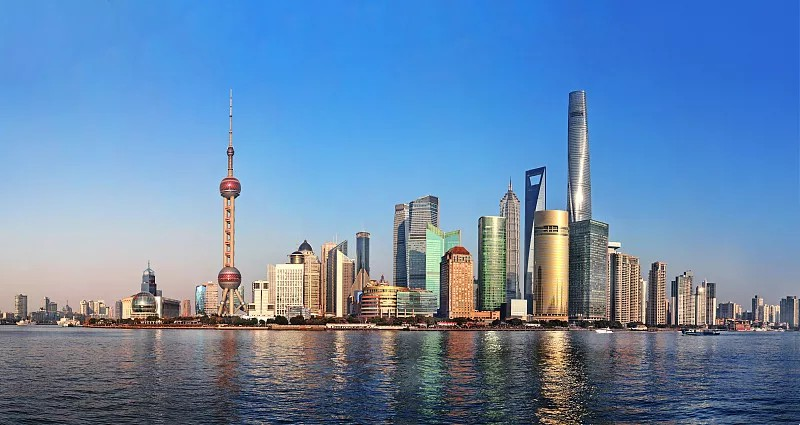Oriental: (218, 89, 248, 316)
